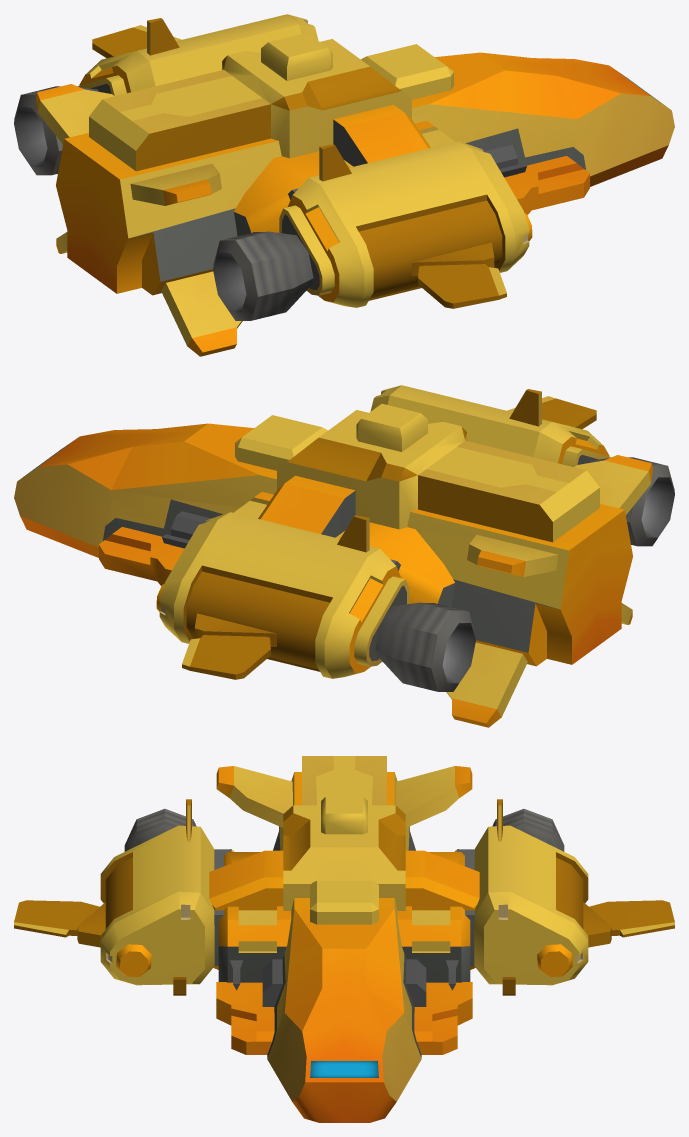
File: EnemyShip5.fbx
The picture shows the model from 3 angles, top to bottom: view 1: azimuth 30°, elevation 25°; view 2: azimuth 150°, elevation 25°; view 3: azimuth 270°, elevation 25°; orthographic projection. The views are drawn at different scales.
Parts seen in each view (by area): view 1: Enemy5Parts.002, Enemy5Parts.008, Enemy5Parts.009; view 2: Enemy5Parts.002, Enemy5Parts.009, Enemy5Parts.008; view 3: Enemy5Parts.002, Enemy5Parts.008, Enemy5Parts.009.
Boxes of the visible parts, x1,y1,x2,y2 form: Enemy5Parts.002: [36, 14, 674, 356]; Enemy5Parts.008: [213, 231, 313, 320]; Enemy5Parts.009: [14, 86, 98, 175]; Enemy5Parts.002: [14, 385, 652, 727]; Enemy5Parts.009: [375, 602, 475, 691]; Enemy5Parts.008: [590, 457, 674, 546]; Enemy5Parts.002: [14, 756, 674, 1122]; Enemy5Parts.008: [124, 809, 196, 851]; Enemy5Parts.009: [492, 809, 564, 851].
Bounding box in the file's own units: 5.18 × 5.89 × 1.94.
